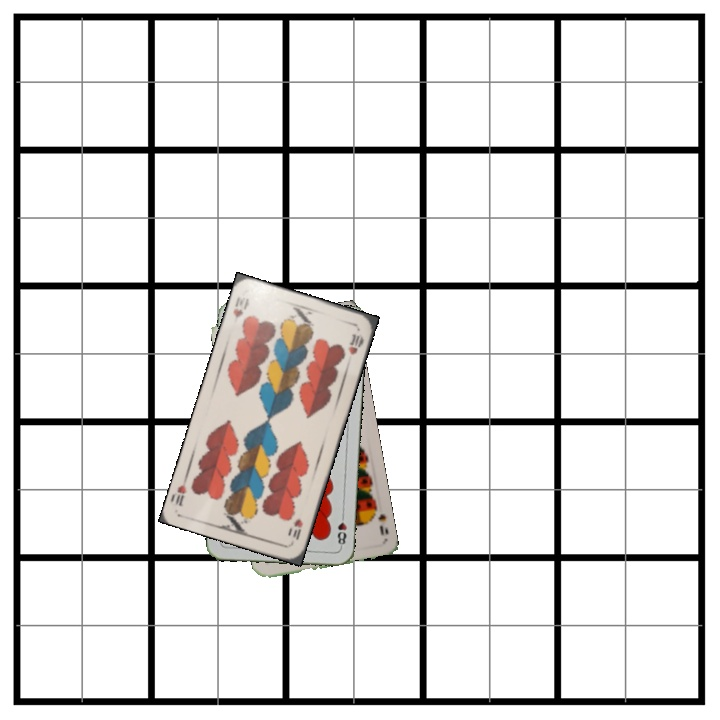H10: (229, 293, 252, 326), (287, 514, 306, 546)
H8: (333, 509, 349, 550)
S9: (368, 502, 389, 538)
